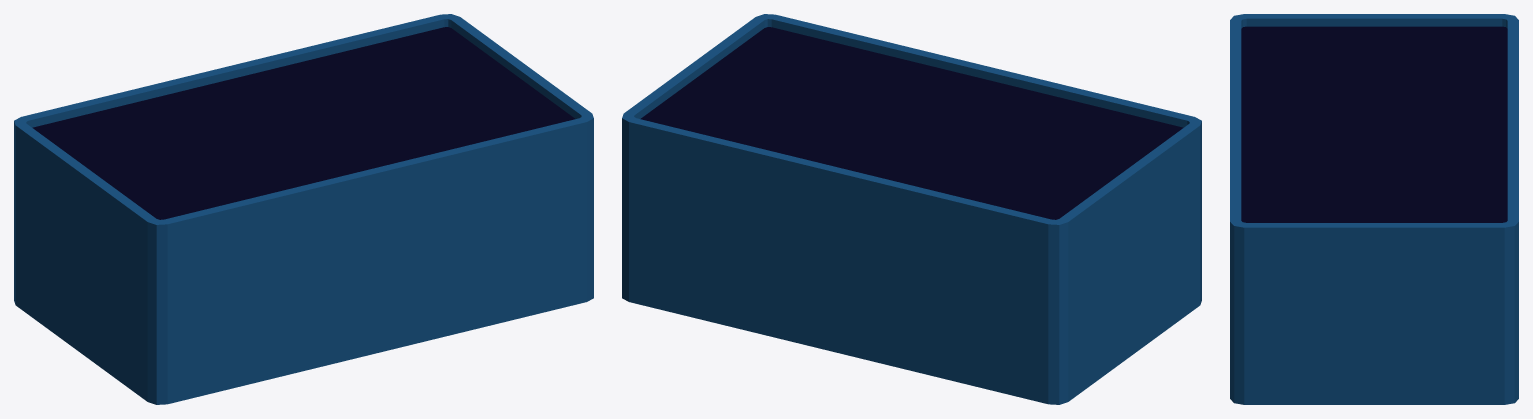
The model's file is CannedFood_05.fbx.
3 renders of one model, left to right at view 1: azimuth 30°, elevation 25°; view 2: azimuth 150°, elevation 25°; view 3: azimuth 270°, elevation 25°, orthographic.
Parts seen in each view (by area): view 1: CannedFood_05; view 2: CannedFood_05; view 3: CannedFood_05.
Part boxes in pixels (x1,y1,x2,y2): CannedFood_05: (14, 14, 593, 404); CannedFood_05: (622, 14, 1201, 404); CannedFood_05: (1230, 14, 1518, 404).
Size of the model in its own units: 23.76 by 9.19 by 13.58.
